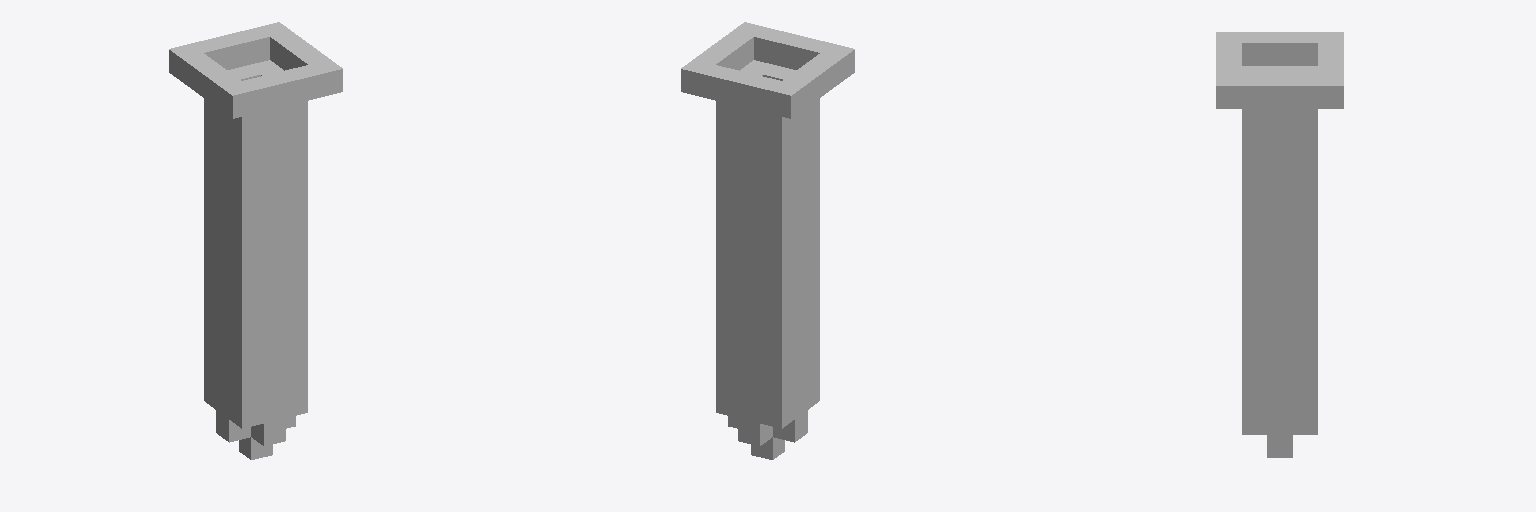
Rendered from test tube orange.obj.
3 renders of one model, left to right at view 1: azimuth 30°, elevation 25°; view 2: azimuth 150°, elevation 25°; view 3: azimuth 270°, elevation 25°, orthographic.
Parts seen in each view (by area): view 1: ObjObject.009; view 2: ObjObject.009; view 3: ObjObject.009.
Boxes of the visible parts, x1,y1,x2,y2 form: ObjObject.009: [169, 22, 342, 459]; ObjObject.009: [681, 22, 854, 459]; ObjObject.009: [1216, 32, 1343, 457].
Bounding box in the file's own units: 0.5 × 1.7 × 0.5.